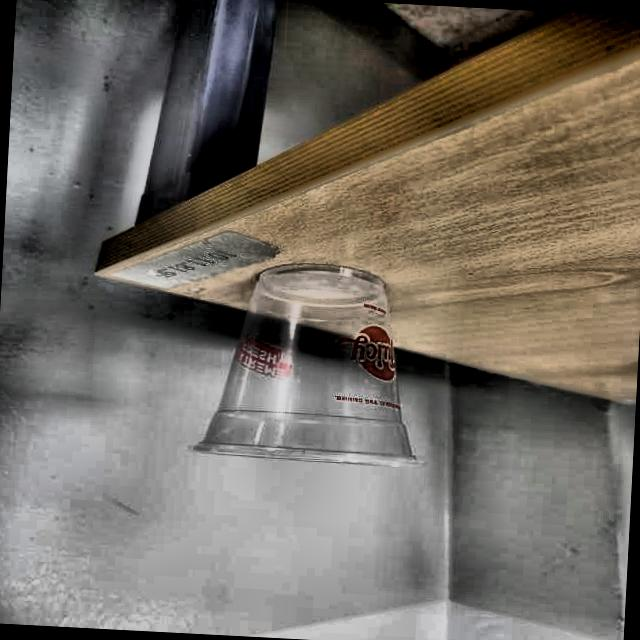plastic cup: (188, 259, 429, 474)
